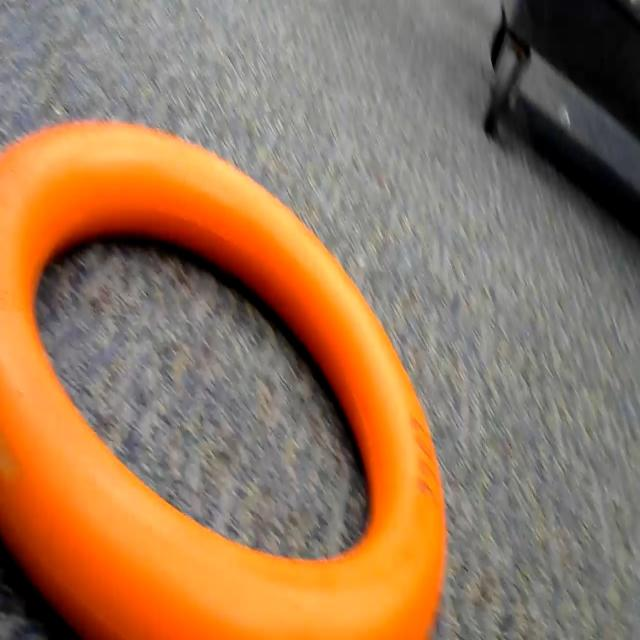note: (0, 120, 458, 640)
